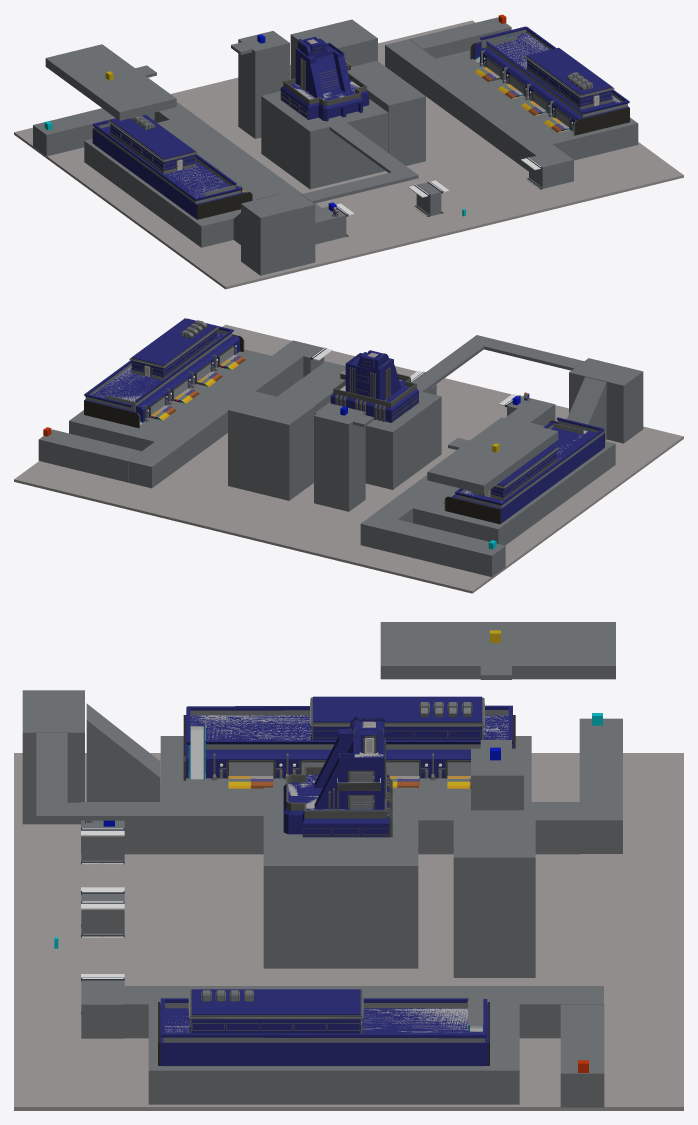
File: room2.fbx
3 views of the same model, one above another, from view 1: azimuth 30°, elevation 25°; view 2: azimuth 150°, elevation 25°; view 3: azimuth 270°, elevation 25° (orthographic). The views are drawn at different scales.
Visible parts, largest first — view 1: path.006, ground.005, garage mesh.002, garage mesh.001, garage.002, garage.001, house 4 mesh.001, house 4.001; view 2: path.006, ground.005, garage mesh.002, garage.002, garage mesh.001, garage.001, house 4 mesh.001, house 4.001; view 3: path.006, ground.005, garage mesh.002, garage mesh.001, garage.002, garage.001, house 4 mesh.001, house 4.001, storey measue.008.
Boxes of the visible parts, x1,y1,x2,y2 form: path.006: (33,17,638,275); ground.005: (14,20,683,289); garage mesh.002: (474,29,628,132); garage mesh.001: (93,114,245,219); garage.002: (469,26,629,135); garage.001: (92,118,252,219); house 4 mesh.001: (280,36,368,121); house 4.001: (280,39,369,120); path.006: (38,335,643,576); ground.005: (14,324,683,593); garage mesh.002: (85,318,245,424); garage.002: (84,318,244,428); garage mesh.001: (443,420,604,523); garage.001: (444,417,604,524); house 4 mesh.001: (330,350,418,422); house 4.001: (331,352,418,422); path.006: (22,622,622,1107); ground.005: (14,753,683,1110); garage mesh.002: (160,989,488,1066); garage mesh.001: (185,696,513,788); garage.002: (158,989,489,1065); garage.001: (183,696,515,780); house 4 mesh.001: (283,716,389,837); house 4.001: (283,718,392,837); storey measue.008: (219,760,283,778).
Bounding box in the file's own units: 39876 × 31811 × 9786.
